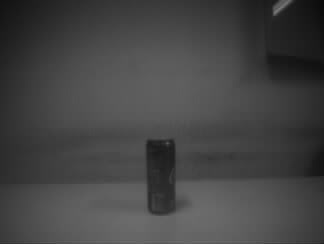Tin can: (145, 137, 177, 215)
